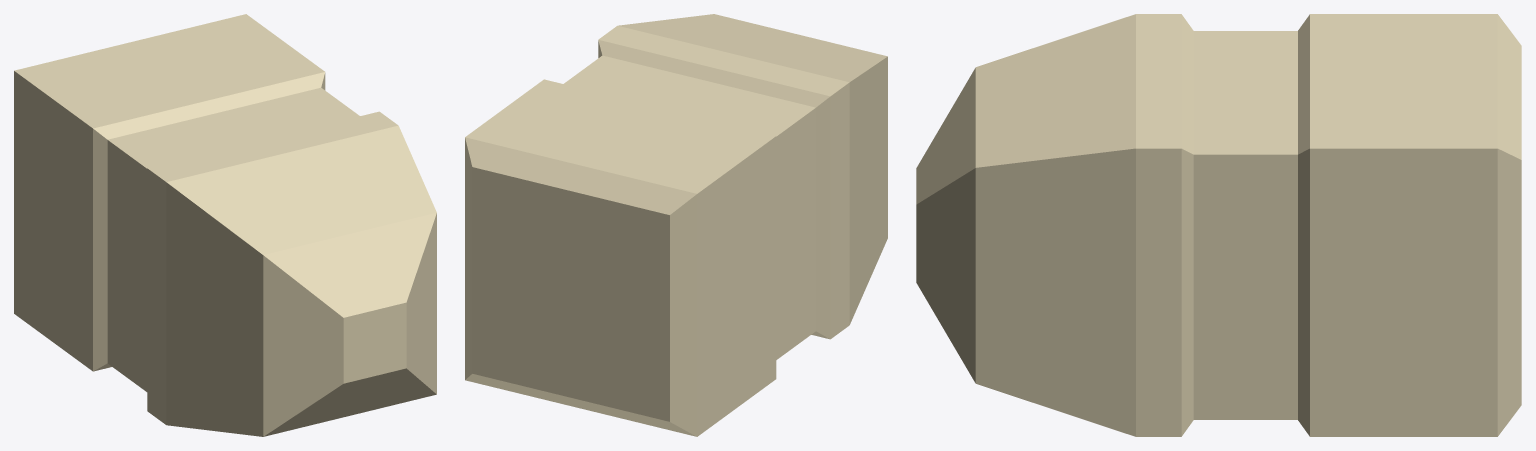
File: bullet.fbx
The picture shows the model from 3 angles, left to right: view 1: azimuth 30°, elevation 25°; view 2: azimuth 150°, elevation 25°; view 3: azimuth 270°, elevation 25°; orthographic projection. The views are drawn at different scales.
Visible parts, largest first — view 1: Plane; view 2: Plane; view 3: Plane.
Boxes of the visible parts, box(x1,y1,x2,y2) form: Plane: box(14, 14, 436, 436); Plane: box(465, 14, 887, 436); Plane: box(916, 14, 1521, 436).
Size of the model in its own units: 0.1545 by 0.2937 by 0.1545.
